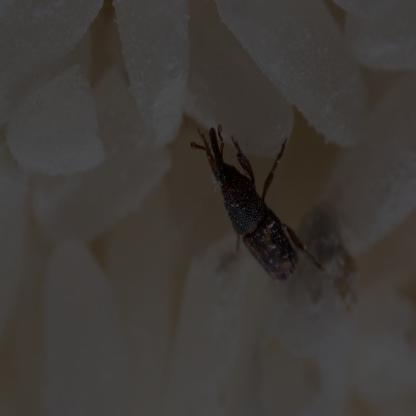rice-bug: (206, 124, 303, 282)
